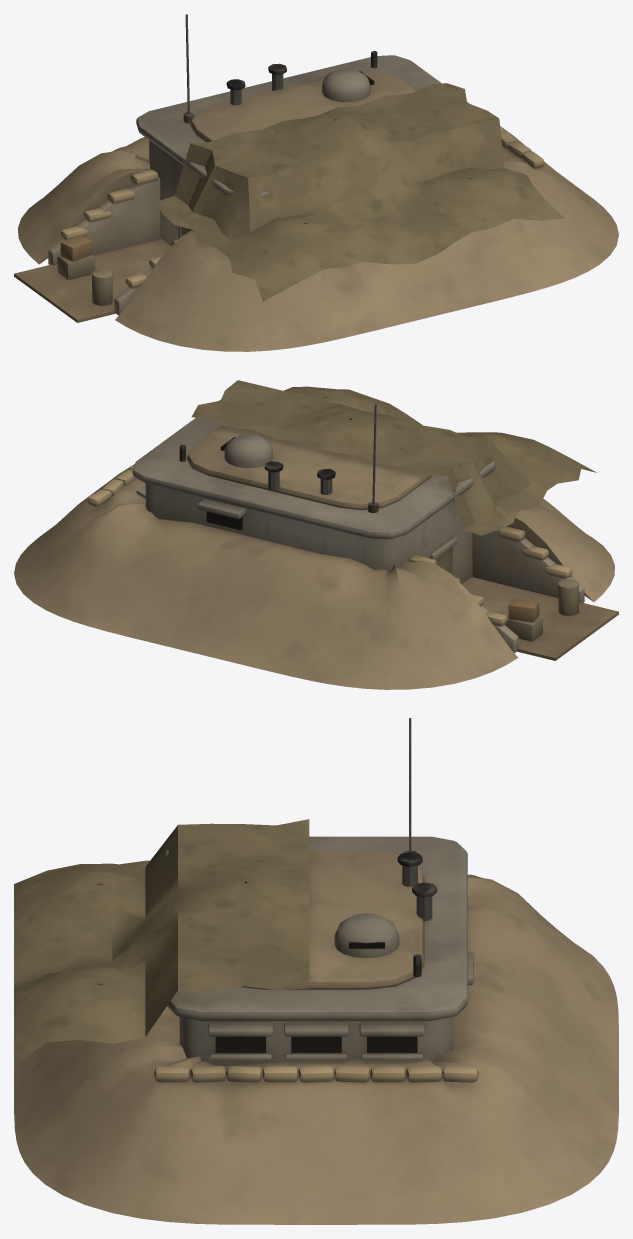
File: fh_battle_e_bunker.glb
3 views of the same model, one above another, from view 1: azimuth 30°, elevation 25°; view 2: azimuth 150°, elevation 25°; view 3: azimuth 270°, elevation 25° (orthographic). The views are drawn at different scales.
Visible parts, largest first — view 1: ground_bunker; view 2: ground_bunker; view 3: ground_bunker.
Part boxes in pixels (left/top/right/bottom): ground_bunker: left=14, top=14, right=618, bottom=351; ground_bunker: left=14, top=380, right=618, bottom=689; ground_bunker: left=14, top=718, right=618, bottom=1224.
Size of the model in its own units: 1.09 by 0.44 by 0.84.
1 material, 1 textured.
